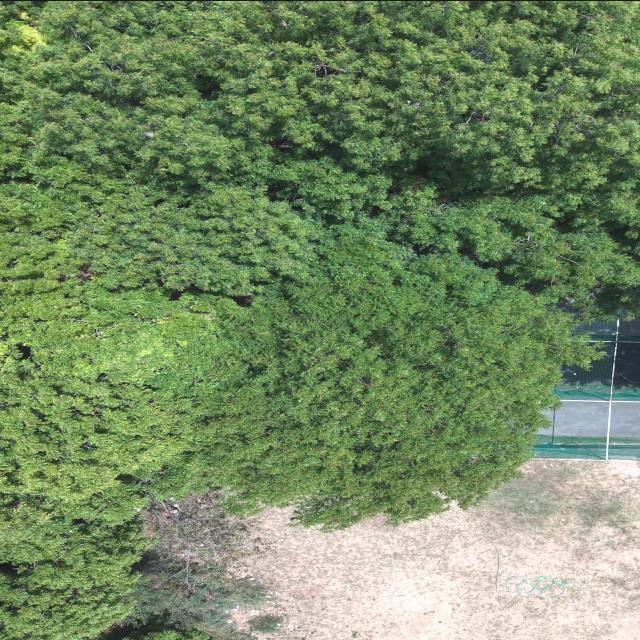DRY_AREA: (238, 460, 639, 639)
VEGETATION_TREE: (0, 1, 639, 639), (2, 1, 639, 315), (109, 494, 273, 639), (132, 559, 269, 639), (112, 627, 209, 639), (248, 616, 282, 633)
